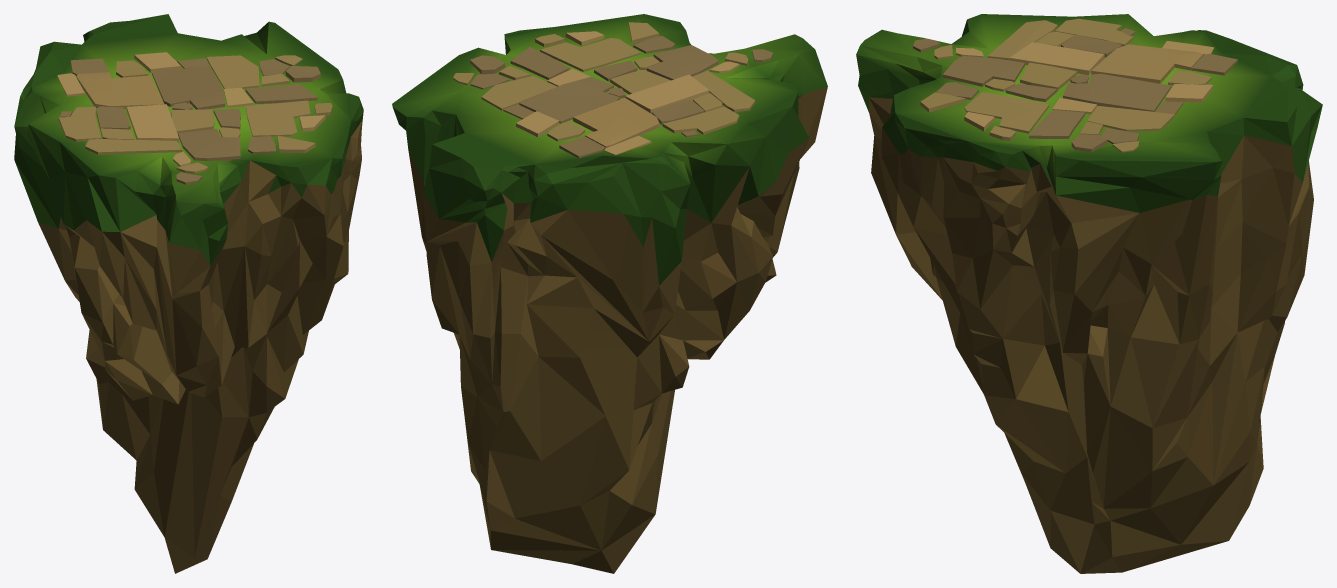
File: ENV_RTS_Elevator_Island_01.fbx
3 renders of one model, left to right at view 1: azimuth 30°, elevation 25°; view 2: azimuth 150°, elevation 25°; view 3: azimuth 270°, elevation 25°, orthographic. The views are drawn at different scales.
Parts seen in each view (by area): view 1: RTS_ElevatorIsland:ENV_RTS_Elevator_Island_01; view 2: RTS_ElevatorIsland:ENV_RTS_Elevator_Island_01; view 3: RTS_ElevatorIsland:ENV_RTS_Elevator_Island_01.
Part boxes in pixels (x1=…): RTS_ElevatorIsland:ENV_RTS_Elevator_Island_01: x1=14, y1=14, x2=363, y2=573; RTS_ElevatorIsland:ENV_RTS_Elevator_Island_01: x1=392, y1=14, x2=827, y2=573; RTS_ElevatorIsland:ENV_RTS_Elevator_Island_01: x1=856, y1=14, x2=1322, y2=573.
Size of the model in its own units: 691 by 1060 by 902.
